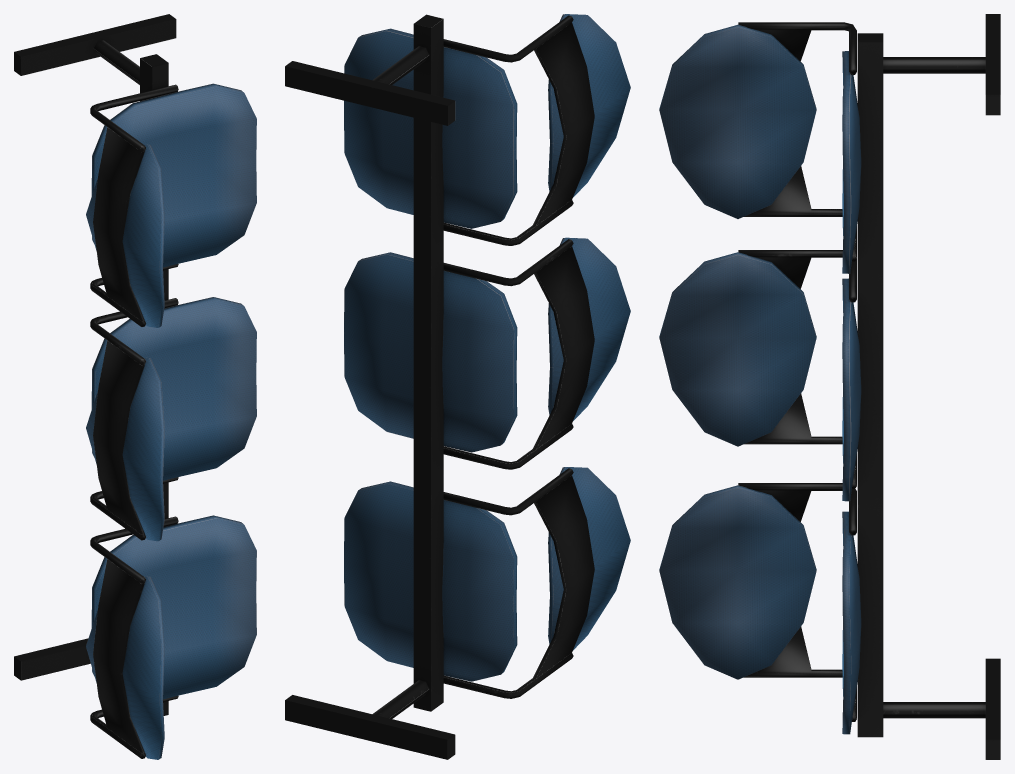
The model's file is PotatoChipChair.obj.
3 renders of one model, left to right at view 1: azimuth 30°, elevation 25°; view 2: azimuth 150°, elevation 25°; view 3: azimuth 270°, elevation 25°, orthographic. The views are drawn at different scales.
Parts seen in each view (by area): view 1: PotatoChipsChair_Plane.009; view 2: PotatoChipsChair_Plane.009; view 3: PotatoChipsChair_Plane.009.
Boxes of the visible parts, bbox=[...] form: PotatoChipsChair_Plane.009: bbox=[14, 14, 256, 759]; PotatoChipsChair_Plane.009: bbox=[285, 14, 630, 759]; PotatoChipsChair_Plane.009: bbox=[659, 14, 1000, 759].
Bounding box in the file's own units: 0.4674 × 1.56 × 0.6952.
Materials: 1 (1 with a texture image).
